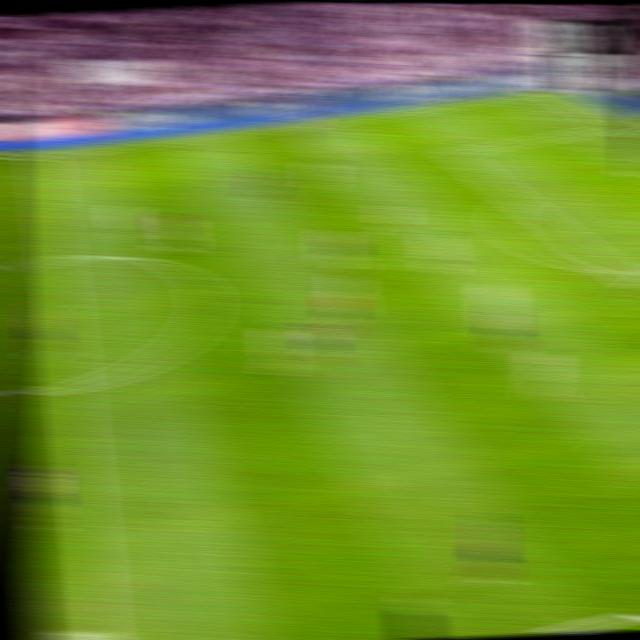bigarea_top_inner: (441, 144, 467, 159)
bigarea_top_outter: (601, 119, 628, 132)
bottom_arc_area_intersection: (603, 261, 632, 282)
corner: (530, 87, 555, 97)
halfcircle_bottom: (56, 370, 88, 401)
halfcircle_top: (40, 244, 72, 273)
midline_top_intersection: (27, 146, 57, 164)
smallarea_top_inner: (620, 165, 640, 177)
top_arc_area_intersection: (503, 190, 530, 207)
